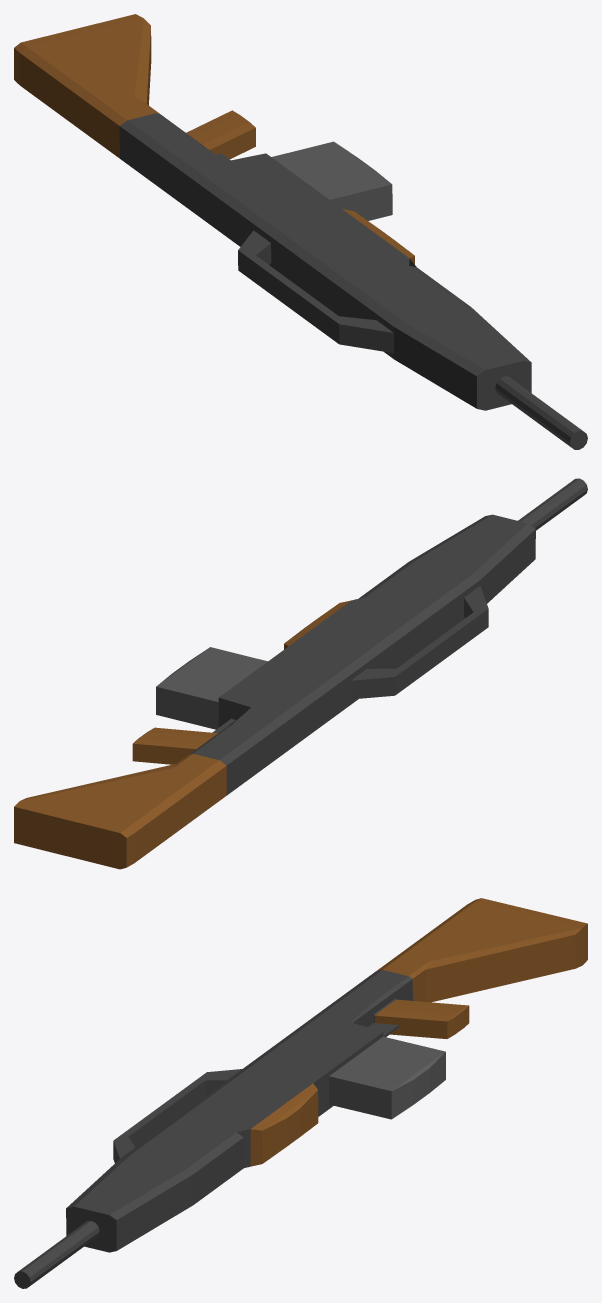
The model's file is battle-rifle.fbx.
3 renders of one model, top to bottom at view 1: azimuth 30°, elevation 25°; view 2: azimuth 150°, elevation 25°; view 3: azimuth 330°, elevation 25°, orthographic. The views are drawn at different scales.
Visible parts, largest first — view 1: Gun, barrel; view 2: Gun, barrel; view 3: Gun, barrel.
Part boxes in pixels (x1=…): Gun: x1=14, y1=14, x2=531, y2=410; barrel: x1=495, y1=376, x2=587, y2=449; Gun: x1=14, y1=514, x2=535, y2=869; barrel: x1=518, y1=478, x2=587, y2=530; Gun: x1=66, y1=898, x2=587, y2=1252; barrel: x1=14, y1=1221, x2=99, y2=1288.
Bounding box in the file's own units: 13.97 × 3.73 × 70.71.
